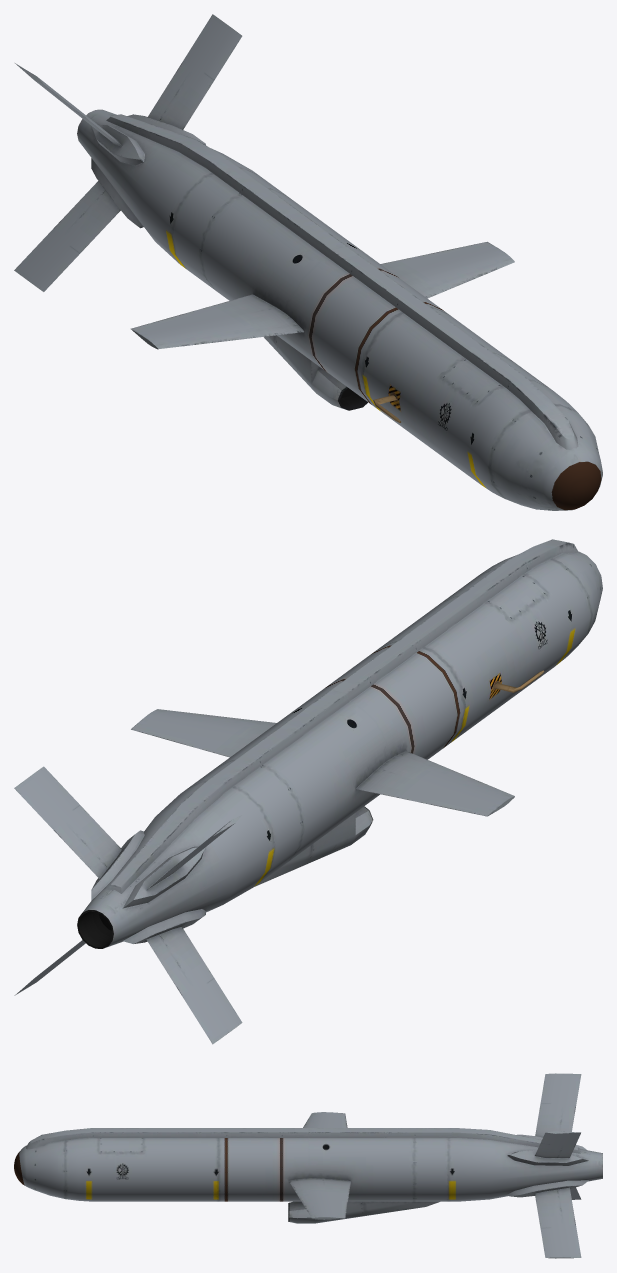
Rendered from delilah-cruise-missile.glb.
The picture shows the model from 3 angles, top to bottom: view 1: azimuth 30°, elevation 25°; view 2: azimuth 150°, elevation 25°; view 3: azimuth 270°, elevation 25°; orthographic projection. The views are drawn at different scales.
Parts seen in each view (by area): view 1: BODY_Delilah_0, CONE_Delilah_0; view 2: BODY_Delilah_0, CONE_Delilah_0; view 3: BODY_Delilah_0, CONE_Delilah_0.
Boxes of the visible parts, x1,y1,x2,y2 form: BODY_Delilah_0: [77, 109, 602, 510]; CONE_Delilah_0: [14, 14, 601, 510]; BODY_Delilah_0: [77, 539, 602, 948]; CONE_Delilah_0: [14, 709, 514, 1044]; BODY_Delilah_0: [19, 1128, 602, 1223]; CONE_Delilah_0: [14, 1073, 581, 1258].
Bounding box in the file's own units: 1.13 × 0.6373 × 2.67.
Materials: 2 (2 with a texture image).
